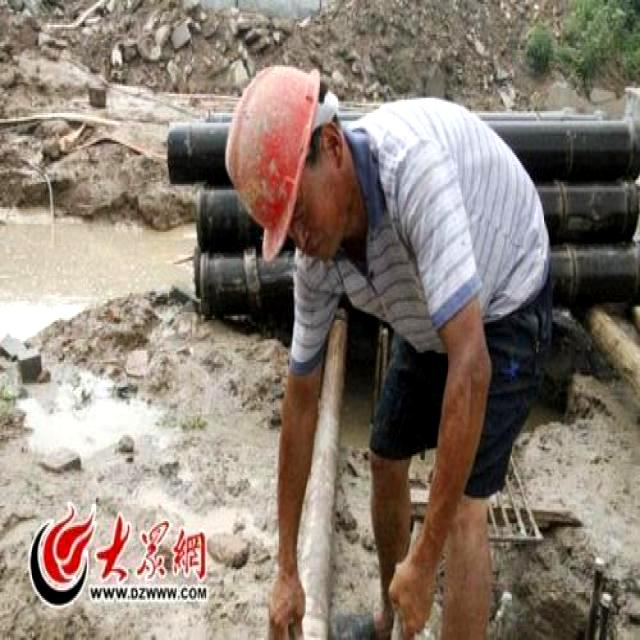hard_hat: (227, 65, 319, 259)
person: (228, 67, 550, 639)
